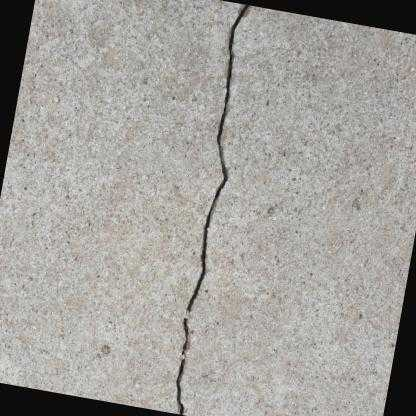crack: (174, 3, 249, 414)
